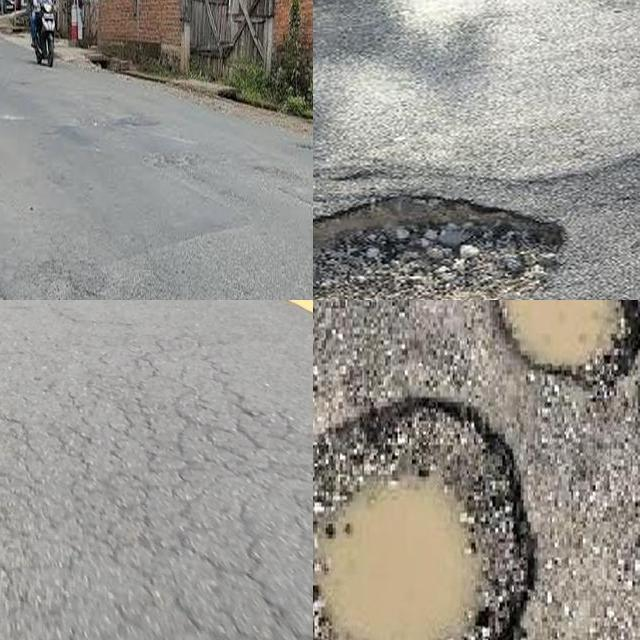Lubang: (313, 394, 525, 640), (313, 197, 573, 300), (489, 300, 640, 370)
Retak Buaya: (0, 328, 290, 640)
